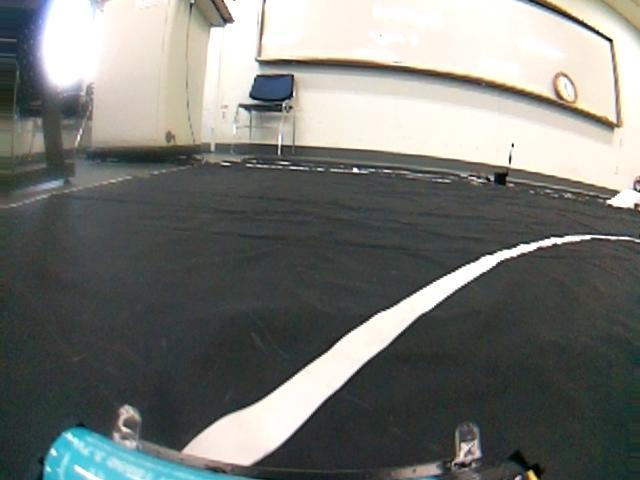right: (2, 220, 640, 479)
